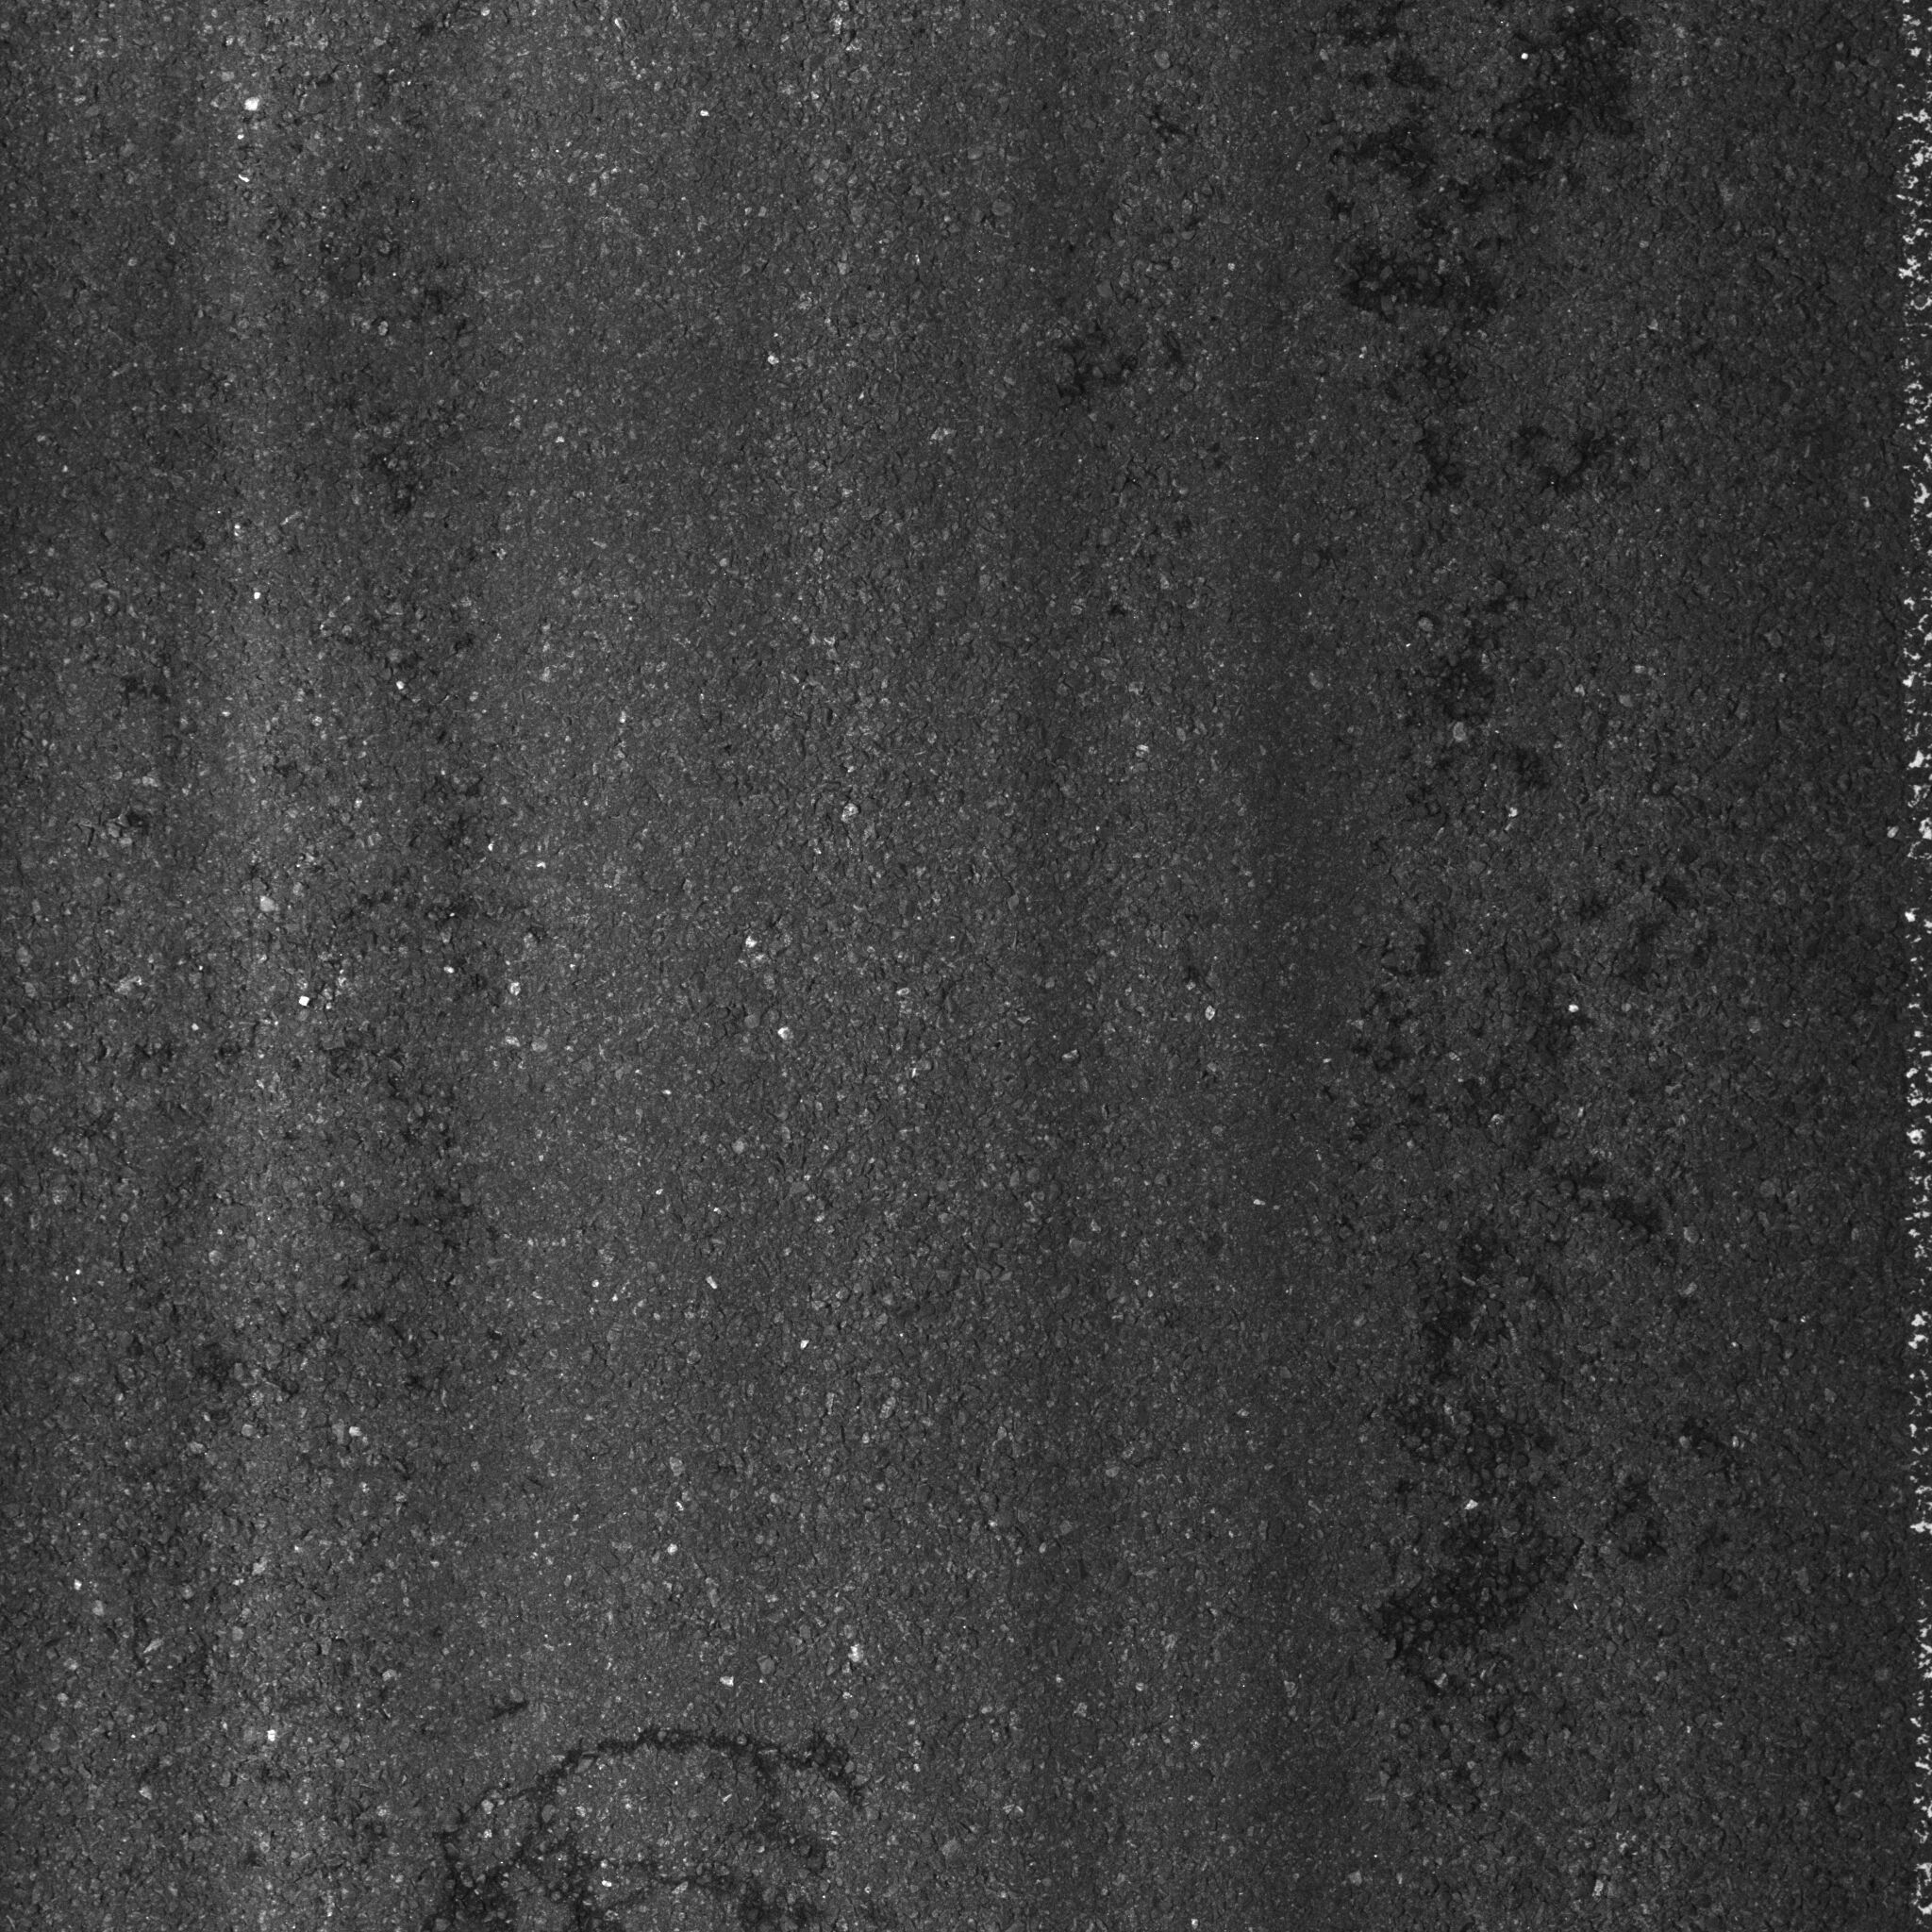alligator: (391, 1723, 904, 1932)
